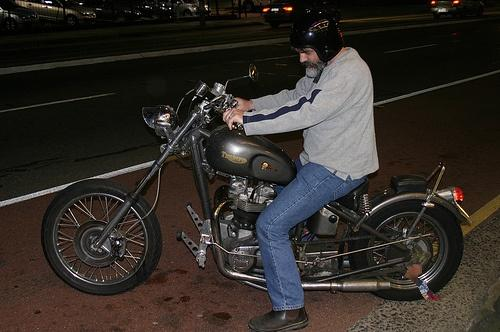tampered: (404, 245, 442, 300)
